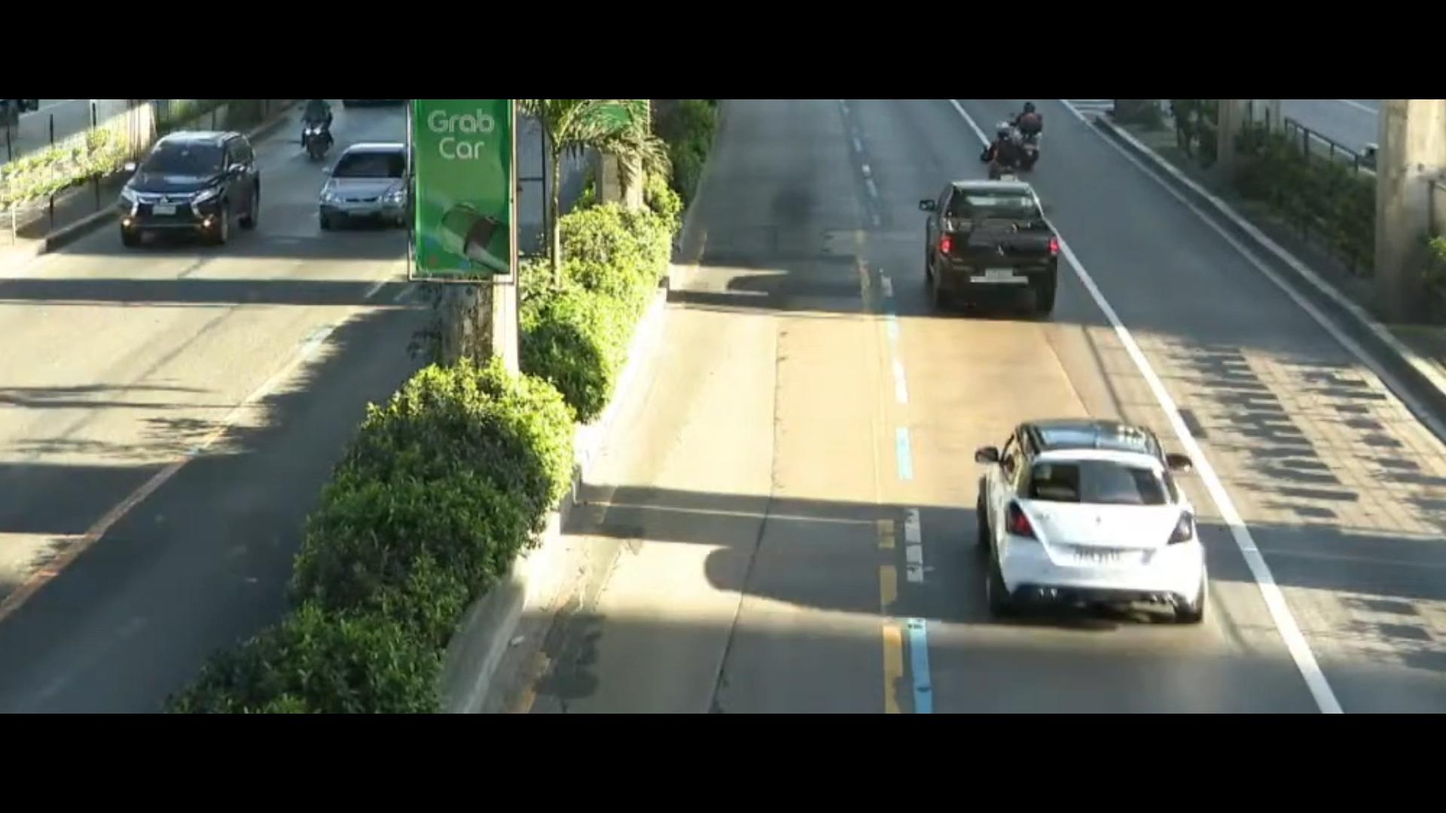Motorcycle: (978, 101, 1031, 185), (293, 98, 349, 173), (1003, 96, 1064, 143)
Pickup: (911, 164, 1093, 322)
SUV: (85, 106, 290, 267)
Sedan: (936, 384, 1254, 637), (309, 134, 427, 232)
